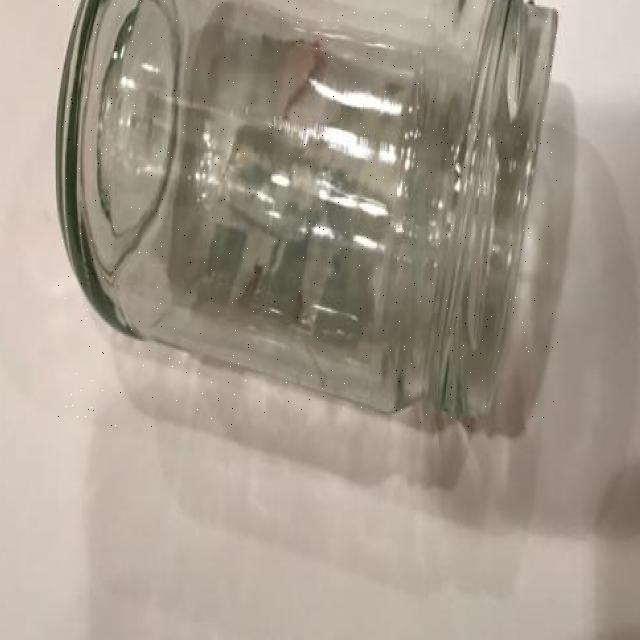glass: (57, 0, 560, 427)
